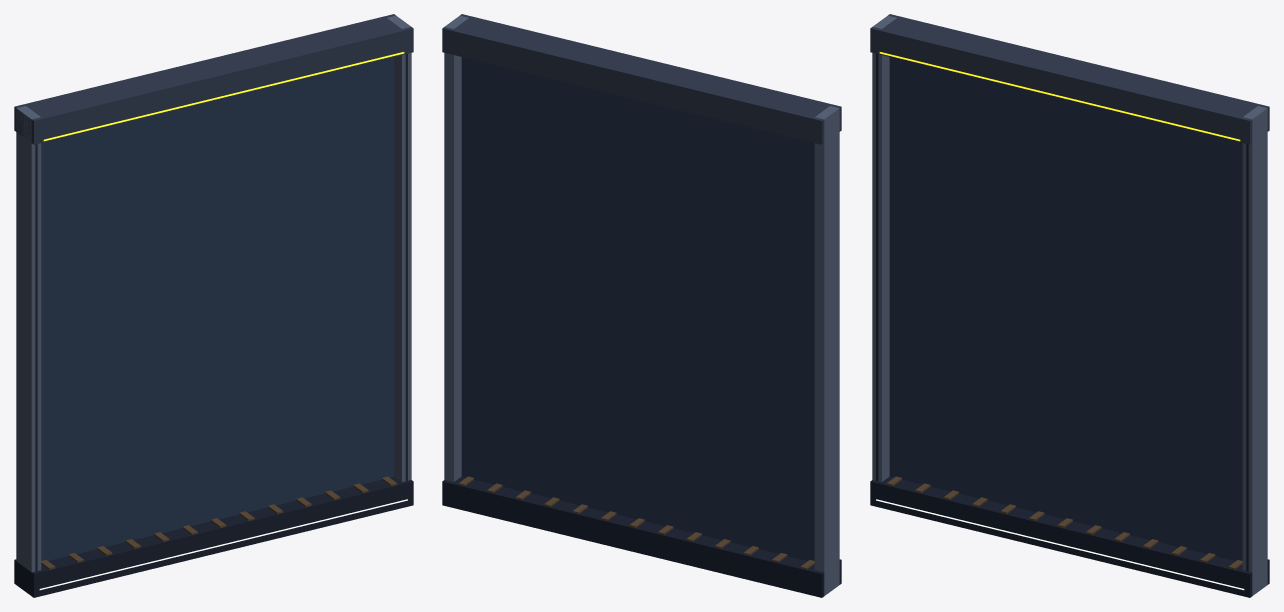
File: res_forest_glass_facade.glb
3 renders of one model, left to right at view 1: azimuth 30°, elevation 25°; view 2: azimuth 150°, elevation 25°; view 3: azimuth 330°, elevation 25°, orthographic.
Parts seen in each view (by area): view 1: panoramic_glazing, anodized_mullion, header, convector_trough, pressure_bead, walnut_convector_grille, concealed_header_led, floor_led; view 2: panoramic_glazing, anodized_mullion, header, convector_trough, walnut_convector_grille; view 3: panoramic_glazing, anodized_mullion, header, convector_trough, pressure_bead, walnut_convector_grille, concealed_header_led, floor_led.
Boxes of the visible parts, x1,y1,x2,y2 form: panoramic_glazing: [41, 57, 394, 560]; anodized_mullion: [16, 15, 411, 572]; header: [14, 14, 413, 144]; convector_trough: [14, 476, 413, 597]; pressure_bead: [35, 53, 407, 571]; walnut_convector_grille: [41, 476, 397, 569]; concealed_header_led: [43, 52, 404, 141]; floor_led: [39, 499, 407, 590]; panoramic_glazing: [461, 57, 814, 560]; anodized_mullion: [444, 15, 839, 595]; header: [442, 14, 841, 144]; convector_trough: [442, 476, 841, 597]; walnut_convector_grille: [458, 476, 814, 569]; panoramic_glazing: [889, 57, 1242, 560]; anodized_mullion: [872, 15, 1267, 595]; header: [870, 14, 1269, 144]; convector_trough: [870, 476, 1269, 597]; pressure_bead: [876, 53, 1248, 571]; walnut_convector_grille: [886, 476, 1242, 569]; concealed_header_led: [879, 52, 1240, 141]; floor_led: [876, 499, 1244, 590].
Bounding box in the file's own units: 4 × 4.8 × 0.36.
